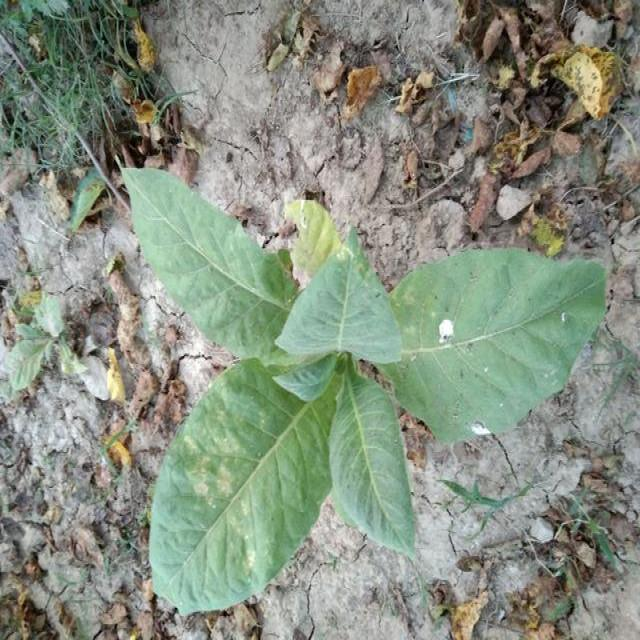crop: (110, 164, 595, 618)
